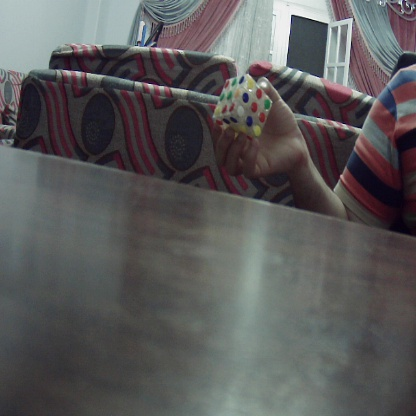Rubix Cube: (212, 75, 270, 136)
